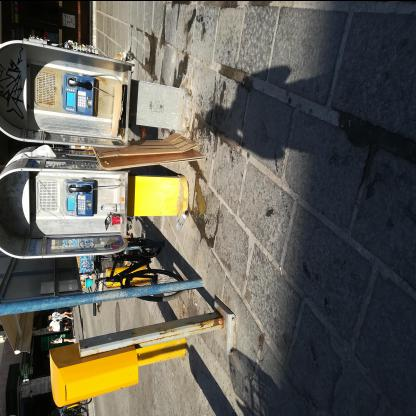karton: (96, 131, 198, 157)
plastik: (176, 210, 188, 230)
